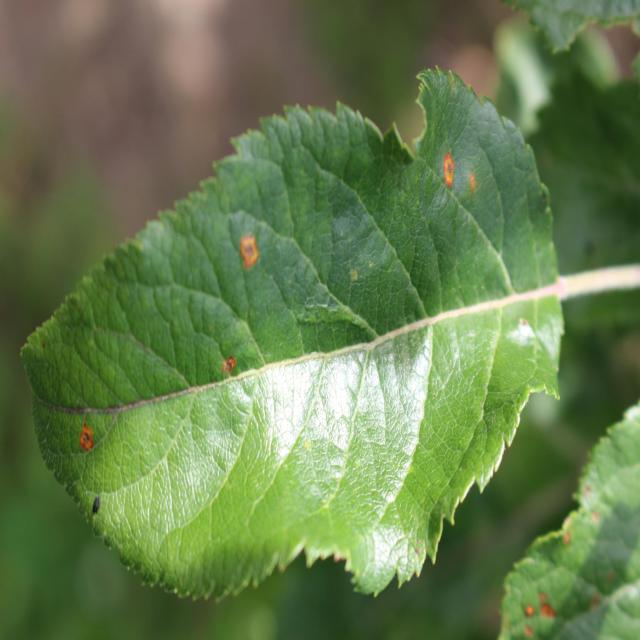Rust: (225, 219, 265, 283), (69, 402, 102, 467), (434, 143, 460, 207), (211, 340, 243, 378)
